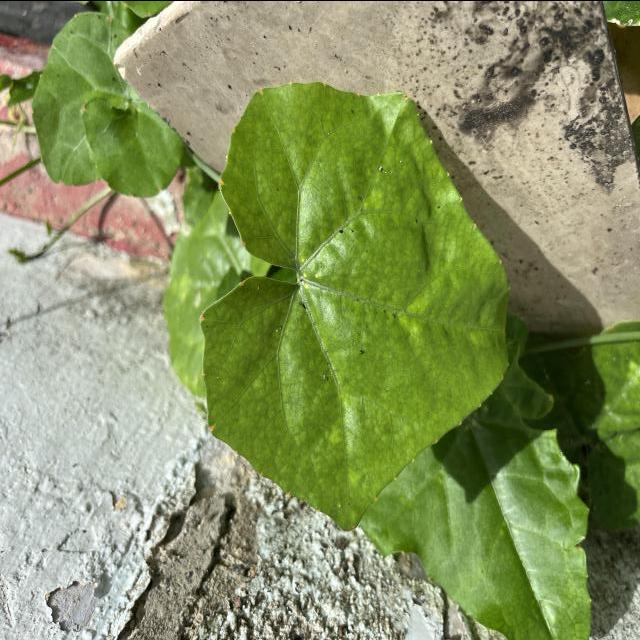Coccinia grandis: (196, 77, 515, 533)
